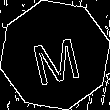M_N: (27, 25, 83, 85)
